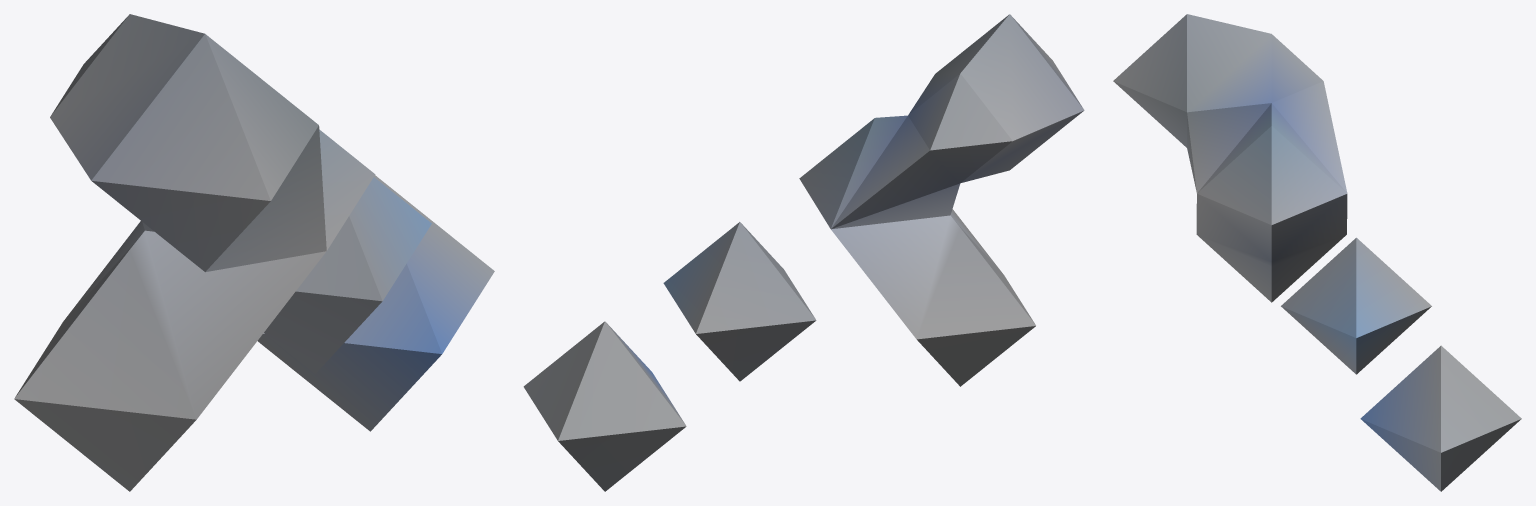
Rendered from 000004_aircraft_jet_airplane_12288_16.glb.
The picture shows the model from 3 angles, left to right: view 1: azimuth 30°, elevation 25°; view 2: azimuth 150°, elevation 25°; view 3: azimuth 270°, elevation 25°; orthographic projection. The views are drawn at different scales.
Visible parts, largest first — view 1: world; view 2: world; view 3: world.
Part boxes in pixels (x1=…): world: x1=14, y1=14, x2=494, y2=491; world: x1=523, y1=14, x2=1084, y2=491; world: x1=1113, y1=14, x2=1521, y2=491.
Bounding box in the file's own units: 0.5617 × 0.5601 × 0.5601.
